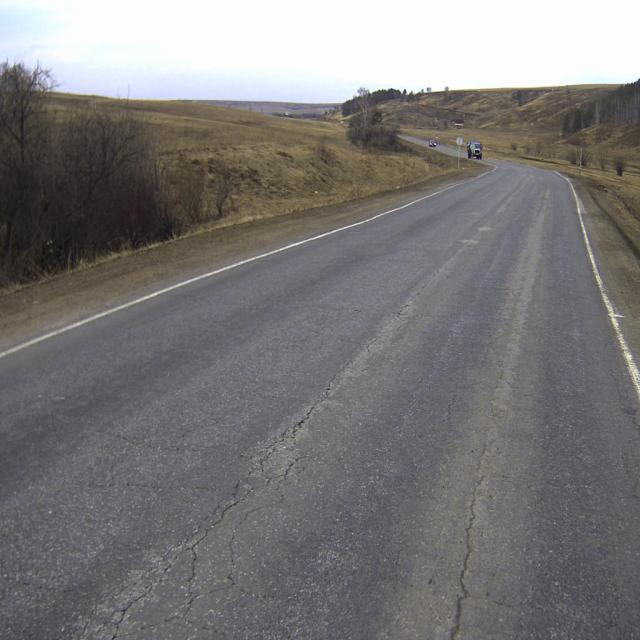road: (432, 146, 467, 158), (270, 239, 291, 248), (238, 258, 241, 261)
